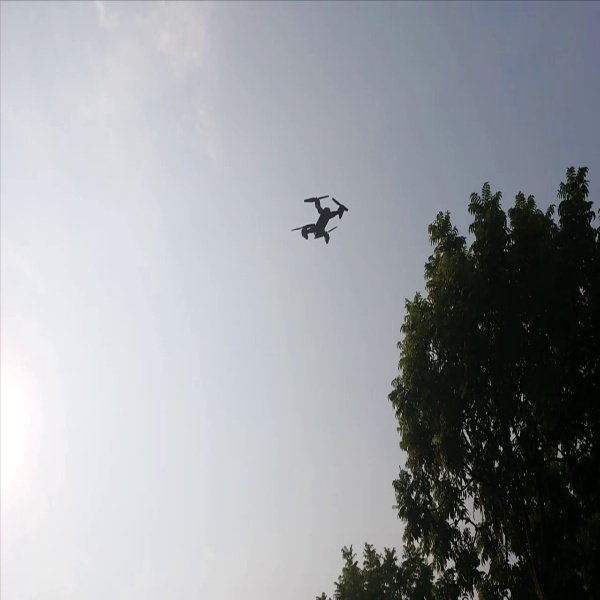drone: (277, 182, 362, 259)
